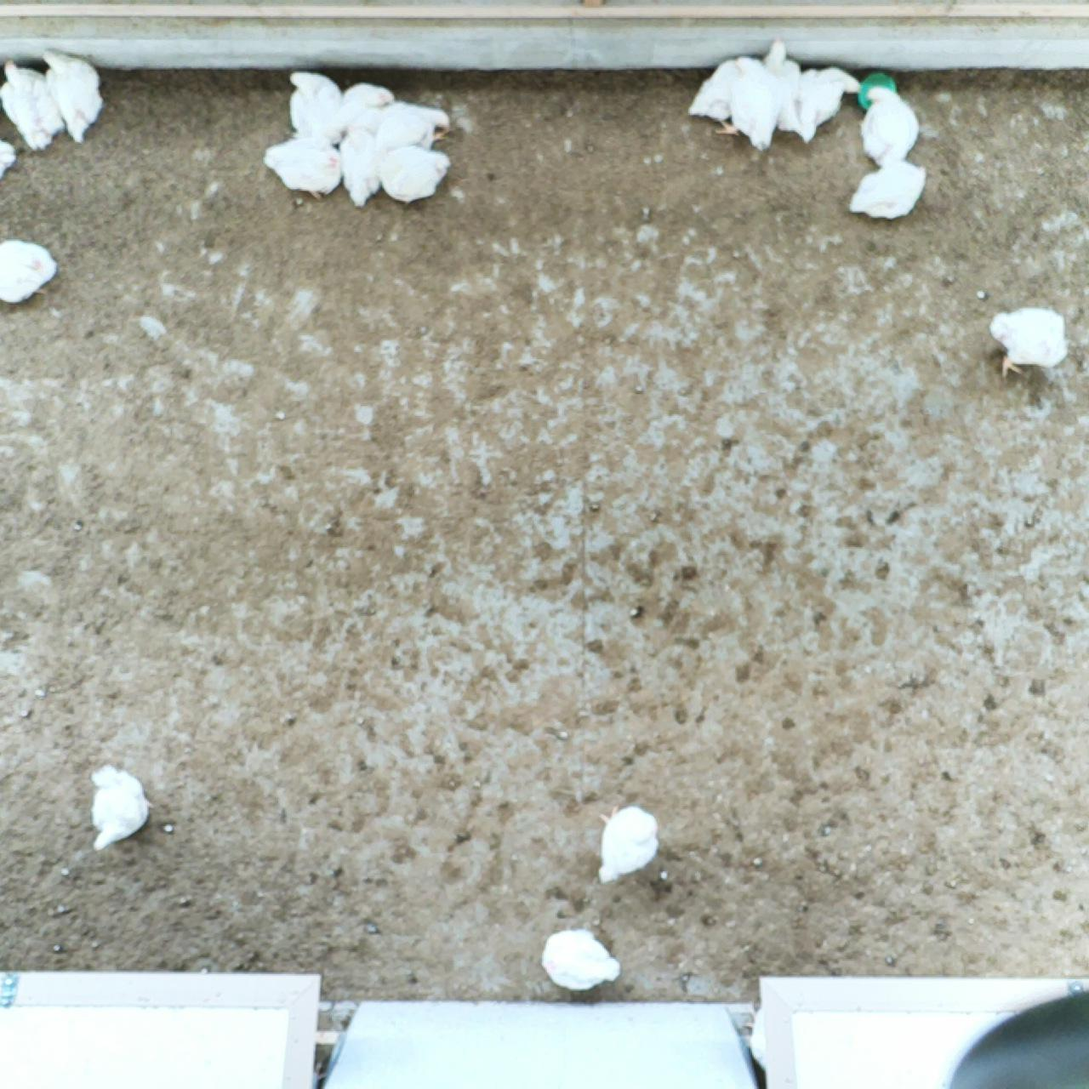chicken: (712, 53, 785, 154), (37, 47, 108, 146), (593, 800, 667, 885), (0, 57, 66, 152), (86, 761, 155, 848), (991, 308, 1072, 382), (260, 134, 346, 202), (844, 157, 929, 225), (539, 926, 626, 992), (859, 85, 922, 170), (796, 63, 862, 144), (285, 65, 348, 145), (685, 56, 743, 142), (381, 147, 453, 210), (0, 237, 59, 311), (761, 33, 803, 134), (338, 124, 385, 209), (376, 102, 457, 151), (344, 80, 396, 121)
